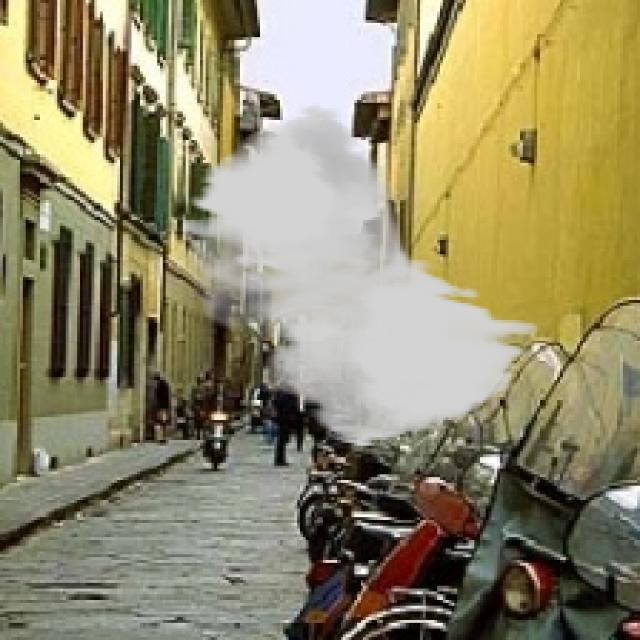Smoke: (180, 102, 537, 448)
